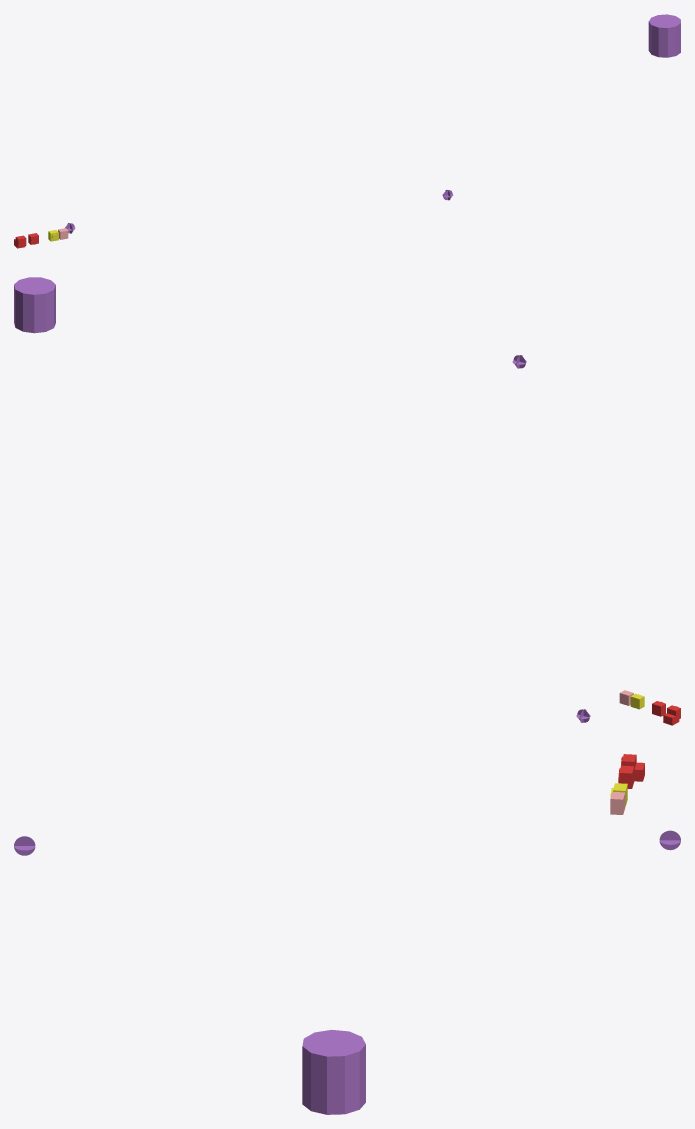
Rendered from tile_423.glb.
3 views of the same model, one above another, from view 1: azimuth 30°, elevation 25°; view 2: azimuth 150°, elevation 25°; view 3: azimuth 270°, elevation 25° (orthographic). The views are drawn at different scales.
Size of the model in its own units: 6.21 by 1.52 by 3.11.
